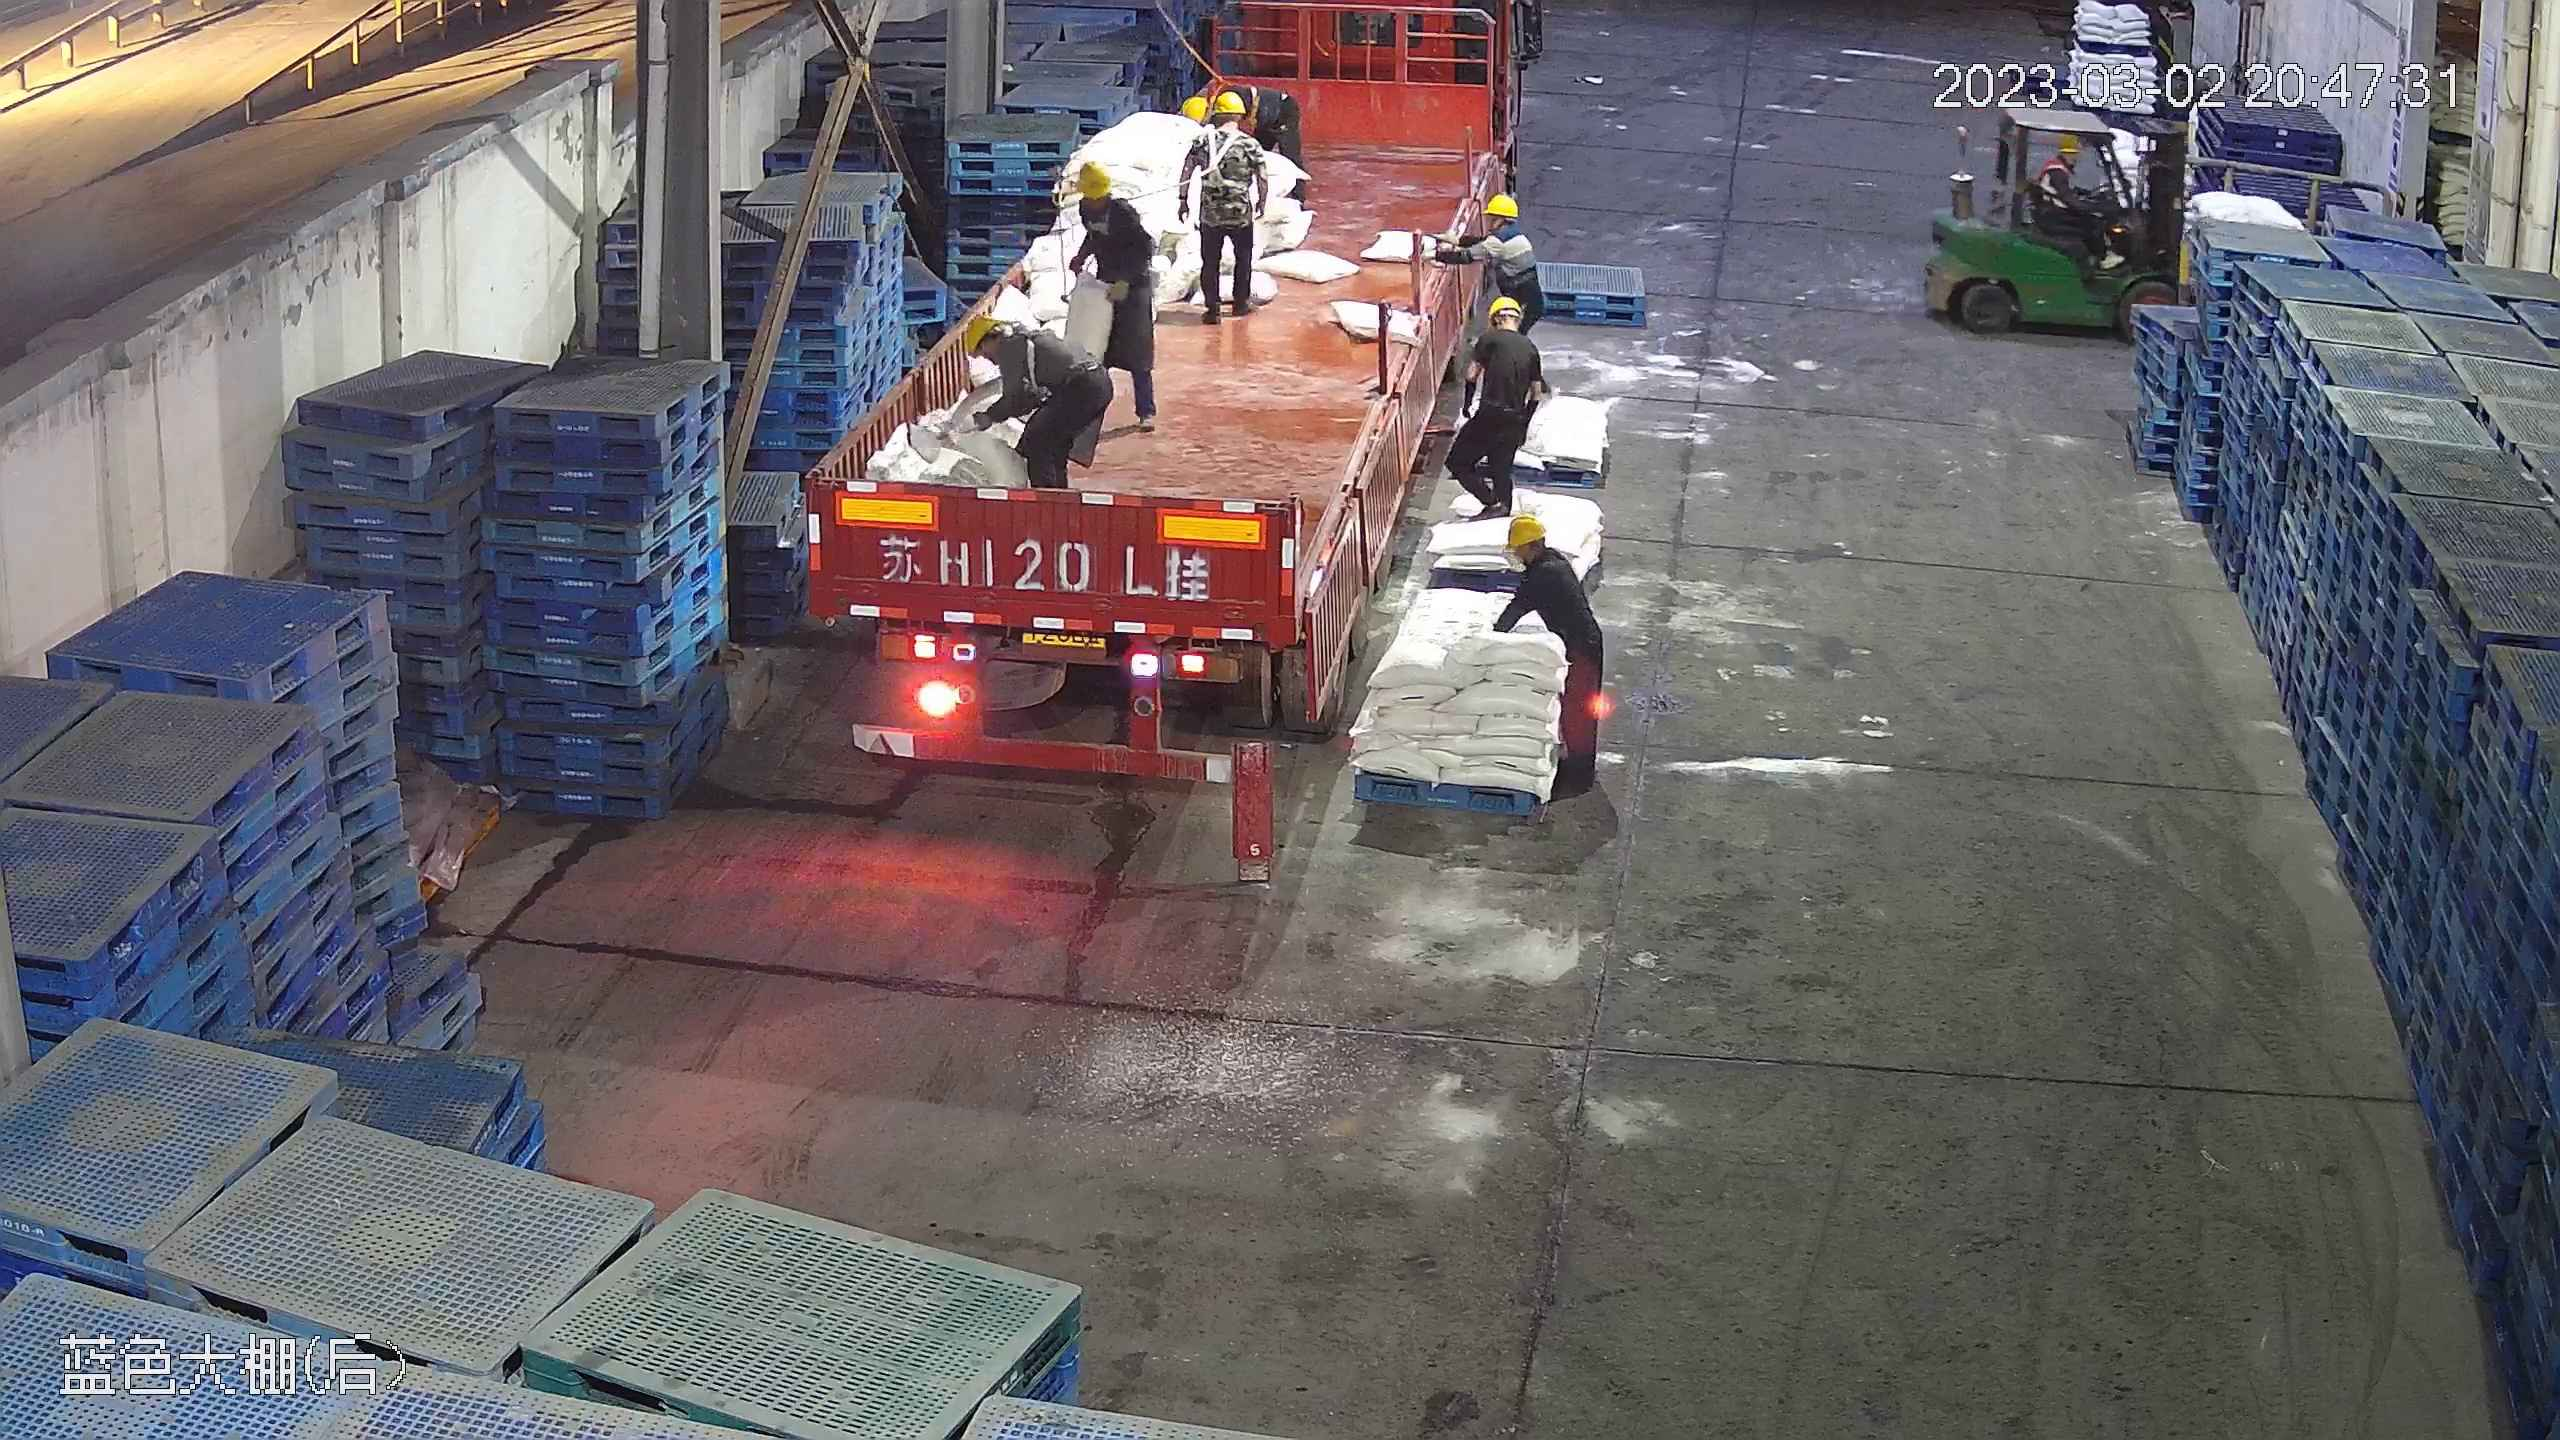belt: (1087, 196, 1156, 270), (1007, 315, 1066, 375), (1194, 135, 1253, 194), (1204, 65, 1262, 119)
head: (1498, 509, 1586, 600), (1067, 159, 1147, 243), (961, 310, 1051, 383), (1472, 292, 1540, 371), (1185, 93, 1261, 160), (1470, 191, 1531, 262), (2046, 130, 2091, 182)
helmet: (1067, 159, 1144, 239), (1475, 293, 1536, 366), (961, 310, 1004, 359), (1067, 158, 1114, 199), (1500, 509, 1548, 549), (1484, 297, 1523, 326), (1214, 90, 1246, 117), (1482, 191, 1518, 218), (1178, 94, 1205, 122), (2055, 129, 2085, 152)
people: (1493, 510, 1612, 816), (961, 312, 1110, 483), (1063, 162, 1160, 423), (1445, 291, 1543, 518), (1179, 90, 1271, 315), (1440, 193, 1548, 327), (2041, 126, 2123, 249)
truck: (811, 28, 1513, 806)
